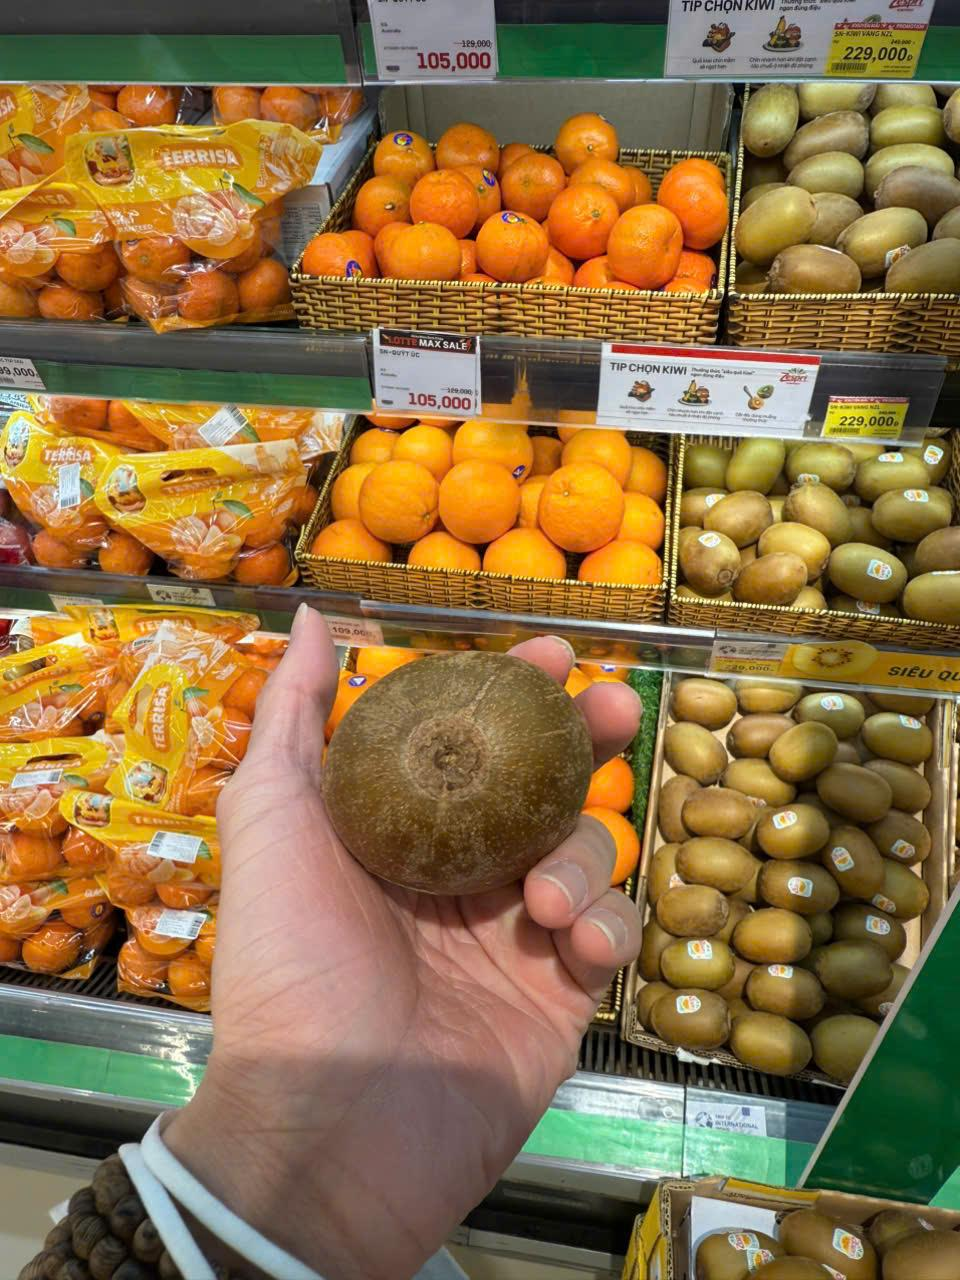kiwi: (320, 645, 608, 902), (812, 536, 910, 608), (735, 1006, 820, 1076), (728, 546, 818, 612), (640, 883, 736, 944), (670, 838, 766, 898), (818, 926, 898, 996), (648, 986, 730, 1054), (678, 778, 758, 846), (735, 898, 818, 956), (858, 478, 952, 528), (740, 960, 822, 1016), (760, 786, 828, 852), (772, 718, 846, 776), (660, 936, 738, 990), (778, 476, 852, 532), (720, 438, 792, 494), (760, 856, 834, 910), (685, 523, 742, 592), (830, 815, 880, 892), (660, 718, 722, 780), (700, 486, 774, 536), (820, 766, 892, 815), (665, 683, 734, 724)
orange: (432, 458, 522, 548), (538, 456, 616, 550), (605, 198, 676, 284), (405, 165, 498, 230), (360, 463, 438, 538), (668, 161, 734, 246), (545, 193, 622, 258), (472, 213, 544, 278), (578, 538, 662, 592), (485, 533, 564, 590), (398, 531, 484, 582), (385, 218, 458, 276), (290, 233, 372, 282), (578, 160, 654, 212), (550, 105, 622, 154), (500, 146, 562, 202), (350, 178, 406, 234), (378, 126, 428, 184), (432, 125, 498, 168)
